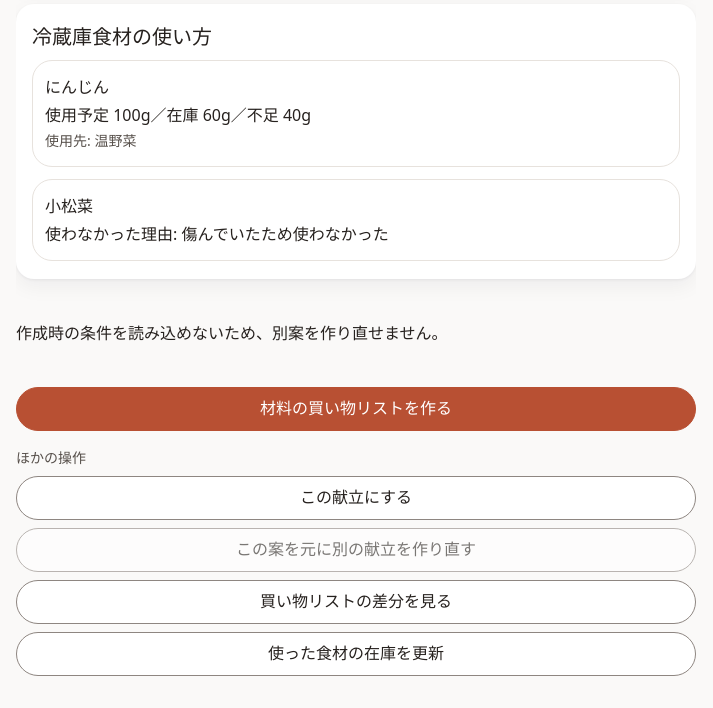
it: MenuResultPage › previews the diff for display only and opens the reconcile sheet
This screenshot has width=713, height=708.
(page scrolled)
Click the button "買い物リストの差分を見る": (356, 602) [16,580,696,624]
(page scrolled)
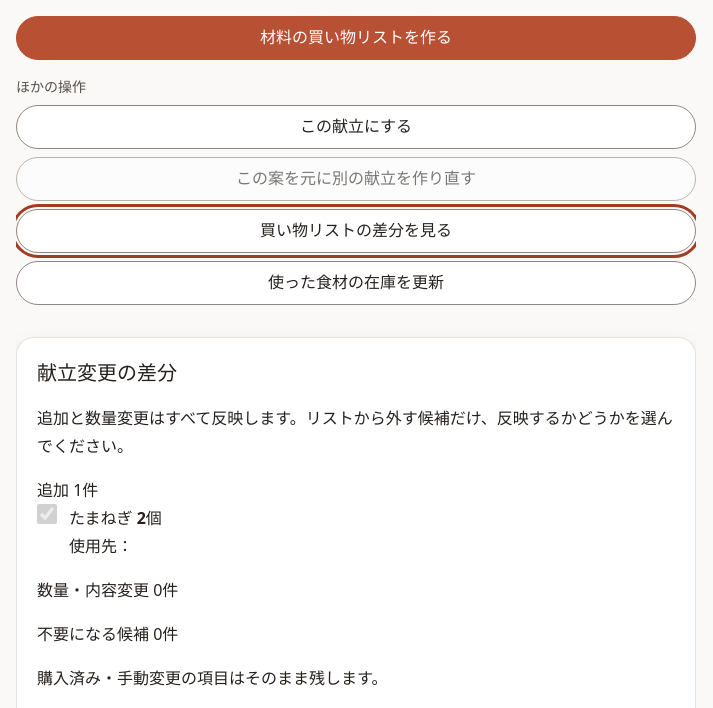
Now the heading "献立変更の差分" is shown, box [37,359,177,386]
